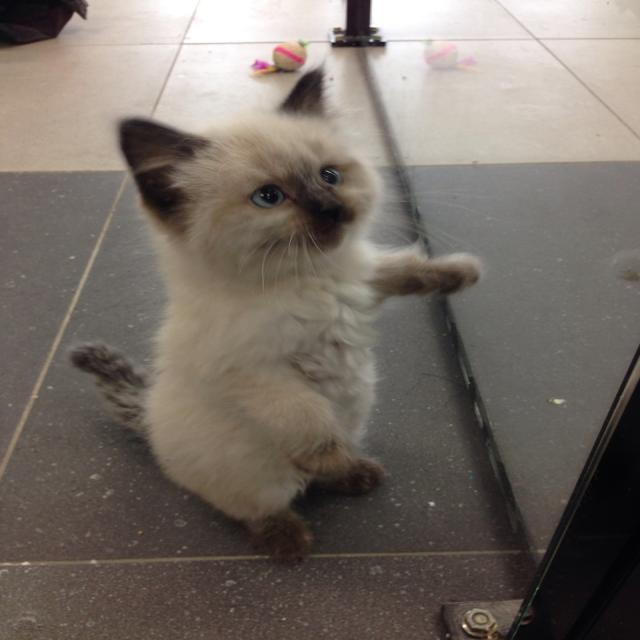cat: (88, 75, 462, 566)
